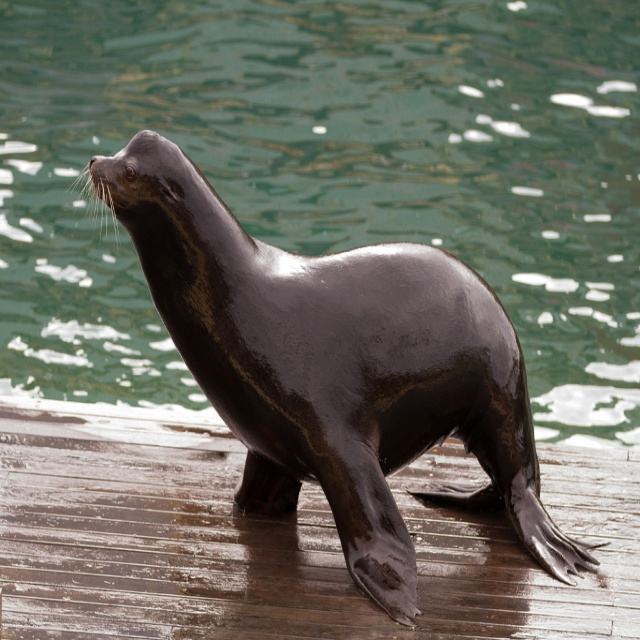Sea lion: (62, 127, 610, 632)
